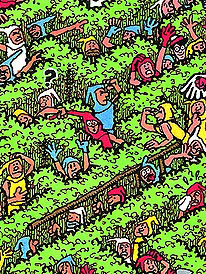waldo: (167, 30, 188, 60)
